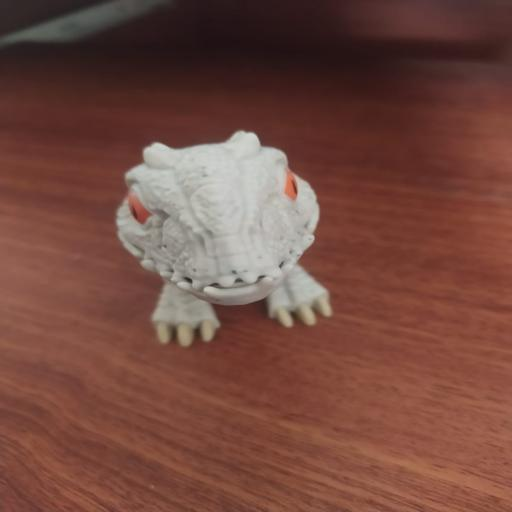Dinosaurio: (104, 123, 352, 351)
